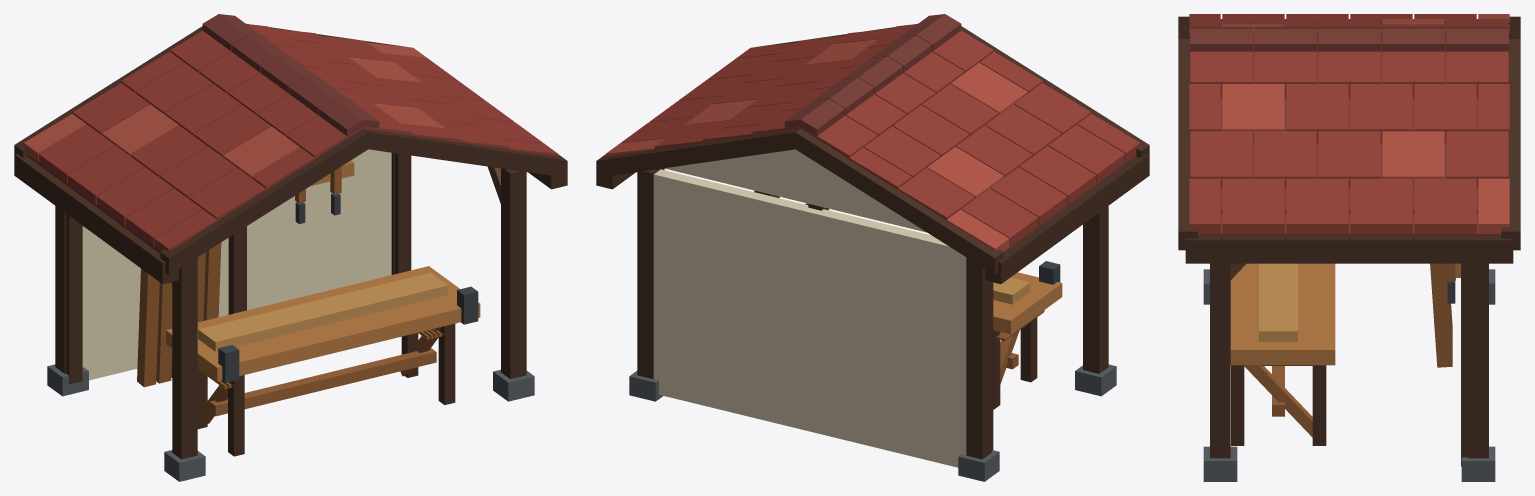
Rendered from 134_carpenter_shed.fbx.
3 views of the same model, side by side, from view 1: azimuth 30°, elevation 25°; view 2: azimuth 150°, elevation 25°; view 3: azimuth 270°, elevation 25° (orthographic). The views are drawn at different scales.
Parts seen in each view (by area): view 1: 134_carpenter_shed; view 2: 134_carpenter_shed; view 3: 134_carpenter_shed.
Boxes of the visible parts, x1=… form: 134_carpenter_shed: x1=14, y1=14, x2=567, y2=481; 134_carpenter_shed: x1=596, y1=14, x2=1149, y2=481; 134_carpenter_shed: x1=1178, y1=14, x2=1520, y2=481.
Size of the model in its own units: 4 by 3.05 by 2.65.
1 material, 1 textured.
